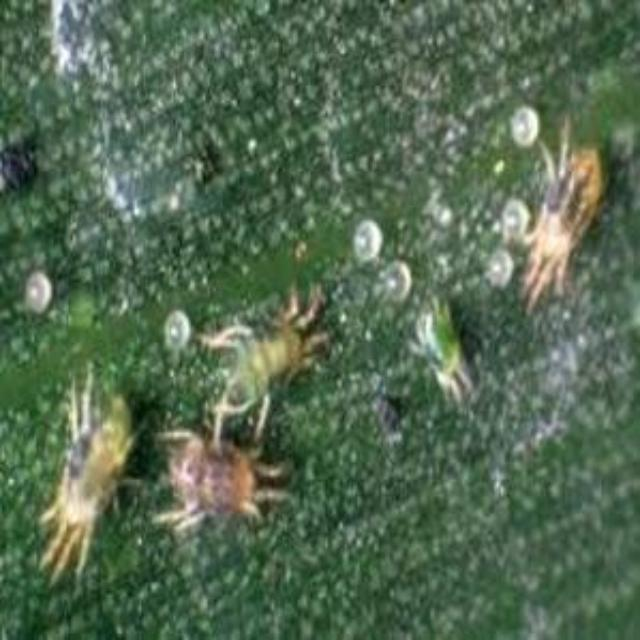spider mite: (29, 357, 141, 588), (192, 292, 364, 430), (512, 126, 634, 314), (150, 419, 284, 569), (400, 300, 498, 424)
